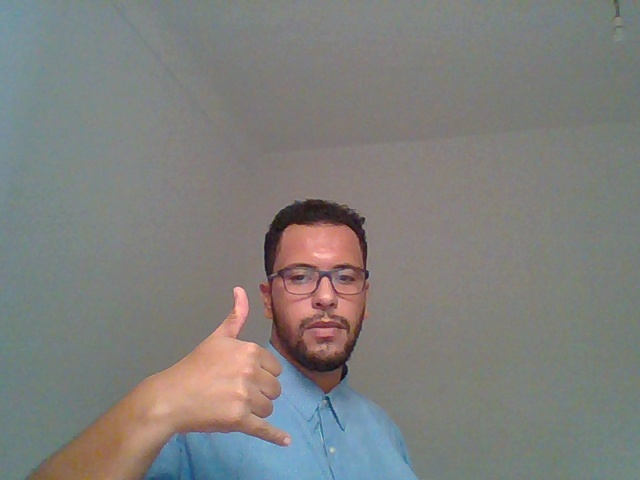callme: (107, 230, 299, 480)
